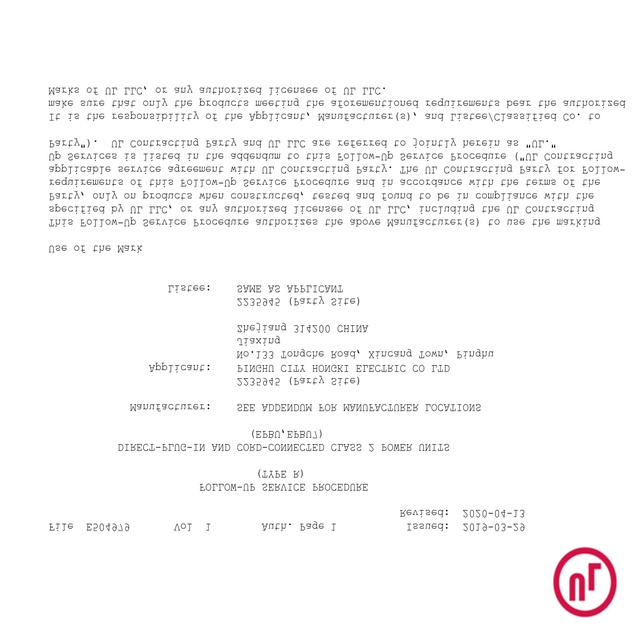ul: (551, 545, 618, 619)
